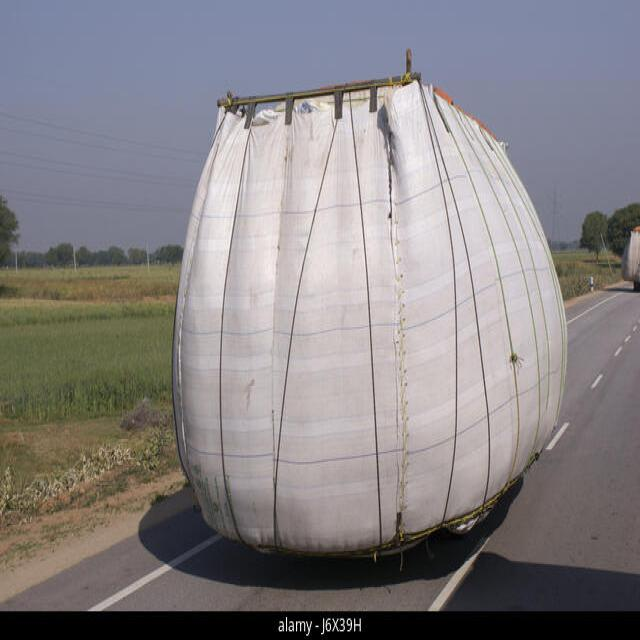overloaded_truck: (172, 75, 566, 555)
